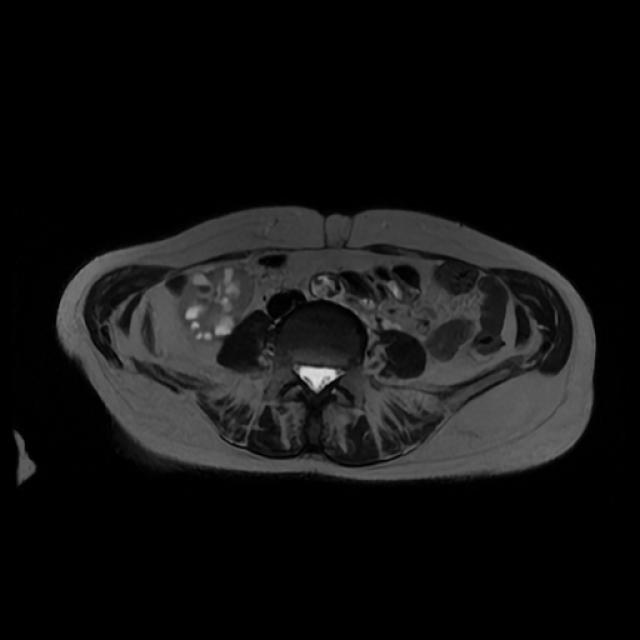sag: (178, 263, 254, 347)
